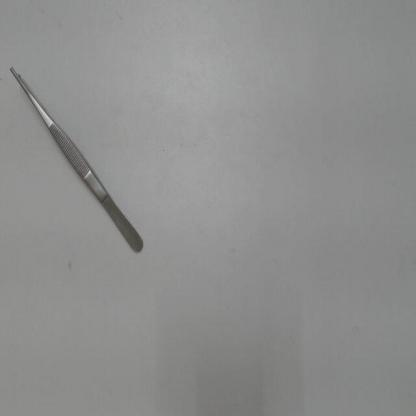Gillies Toothed Dissector: (3, 53, 154, 267)
